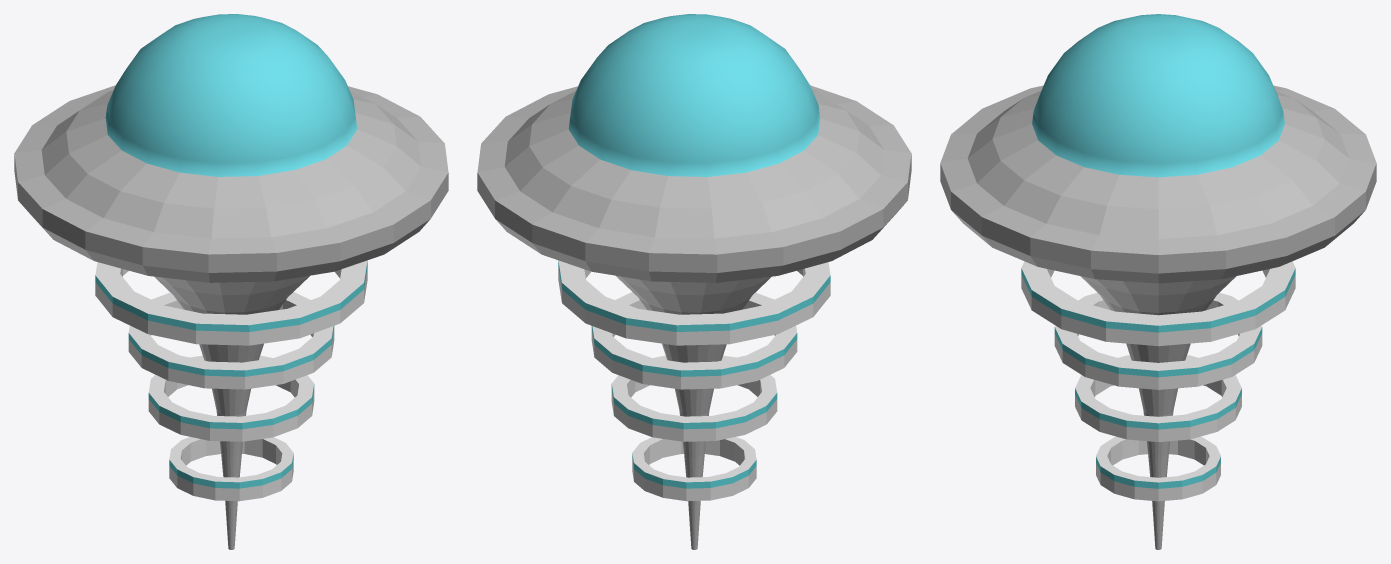
File: Boss 1.fbx
3 renders of one model, left to right at view 1: azimuth 30°, elevation 25°; view 2: azimuth 150°, elevation 25°; view 3: azimuth 270°, elevation 25°, orthographic.
Visible parts, largest first — view 1: Circle, Circle.001, Circle.002, Circle.003, Circle.004; view 2: Circle, Circle.001, Circle.002, Circle.003, Circle.004; view 3: Circle, Circle.001, Circle.002, Circle.003, Circle.004.
Part boxes in pixels (box(x1,y1,x2,y2)): Circle: box(14, 14, 448, 549); Circle.001: box(95, 260, 367, 345); Circle.002: box(128, 292, 334, 389); Circle.003: box(148, 355, 314, 441); Circle.004: box(169, 437, 293, 501); Circle: box(477, 14, 911, 549); Circle.001: box(558, 260, 830, 345); Circle.002: box(591, 292, 797, 389); Circle.003: box(611, 355, 777, 441); Circle.004: box(632, 437, 756, 501); Circle: box(940, 14, 1376, 549); Circle.001: box(1021, 261, 1295, 346); Circle.002: box(1054, 292, 1262, 389); Circle.003: box(1075, 355, 1241, 441); Circle.004: box(1096, 436, 1220, 501).
Bounding box in the file's own units: 1686 × 2211 × 1686.
